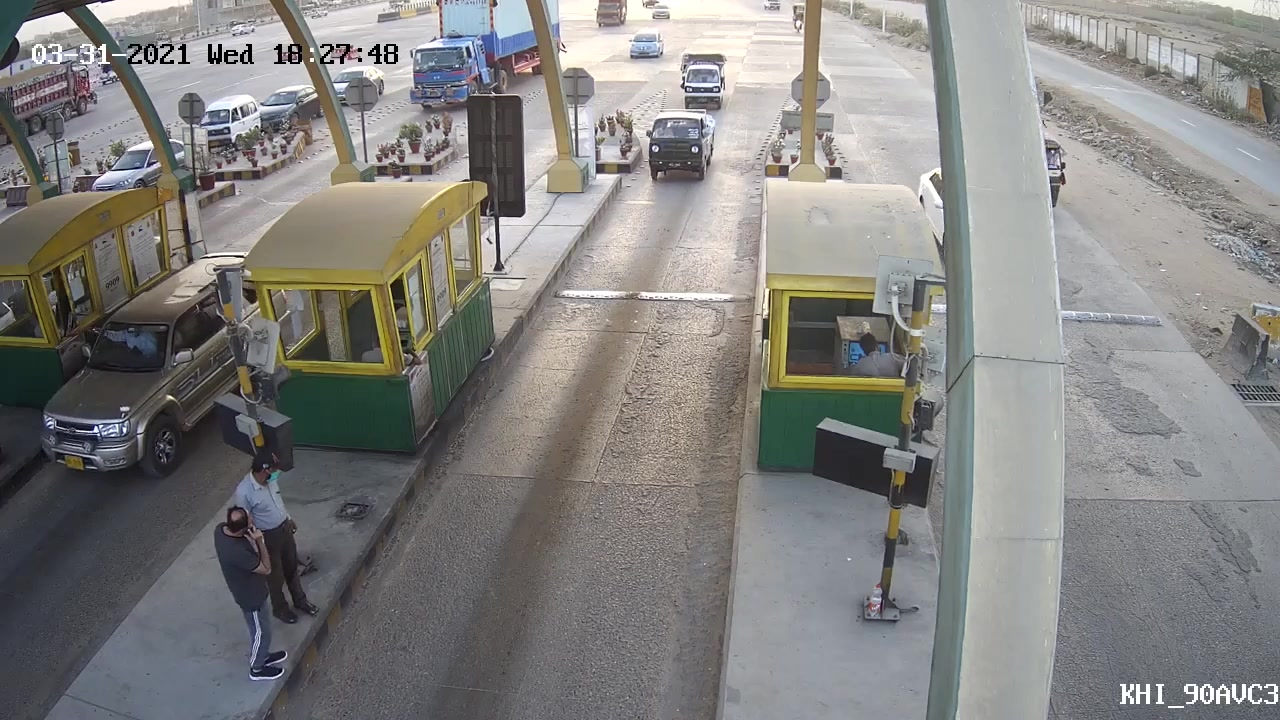F2: (634, 101, 722, 192)
